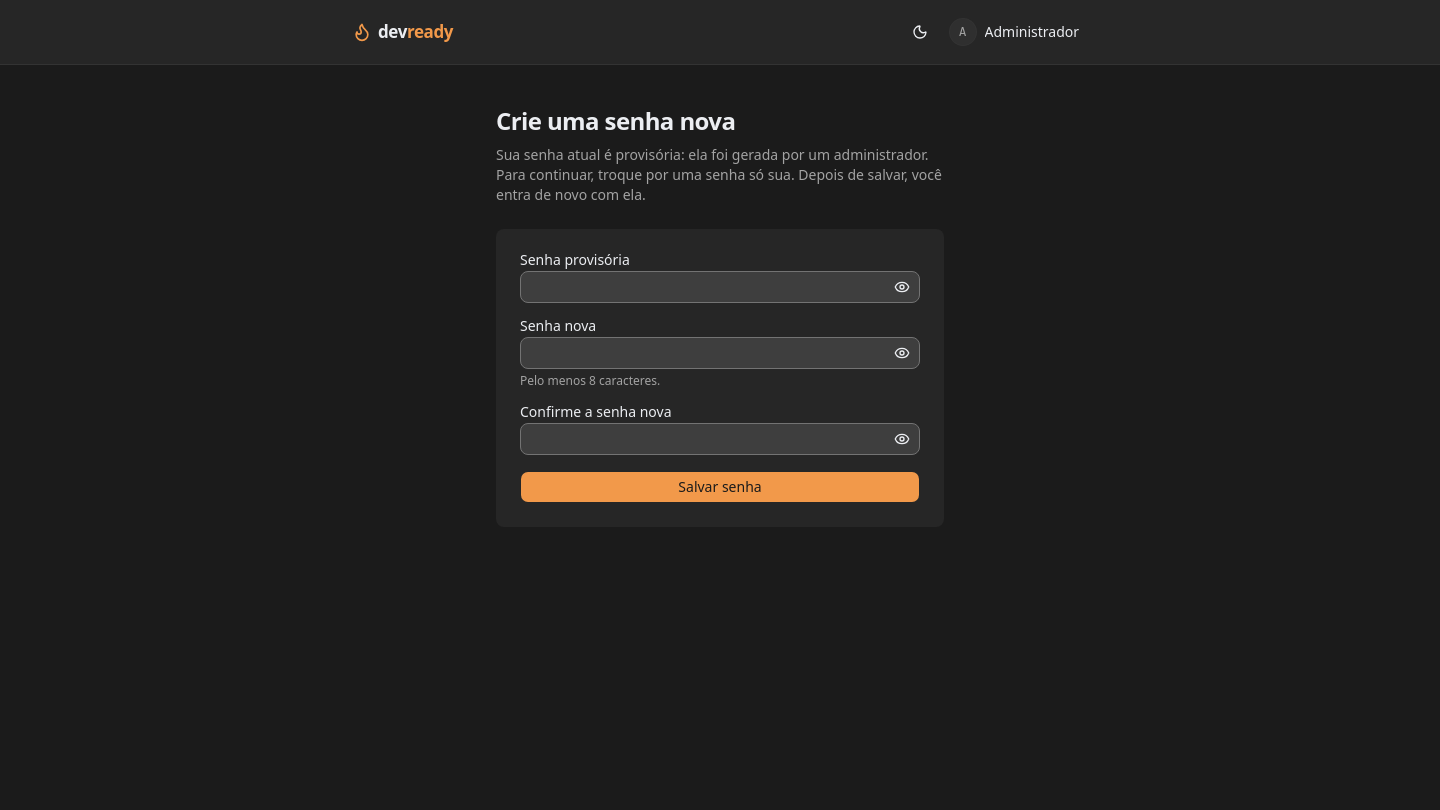
Scenario: ChangePasswordPage › a senha provisória errada aparece no campo dela
Type "errada-123" into the password field labelled "Senha provisória" at (720, 287), box [520,271,920,303]
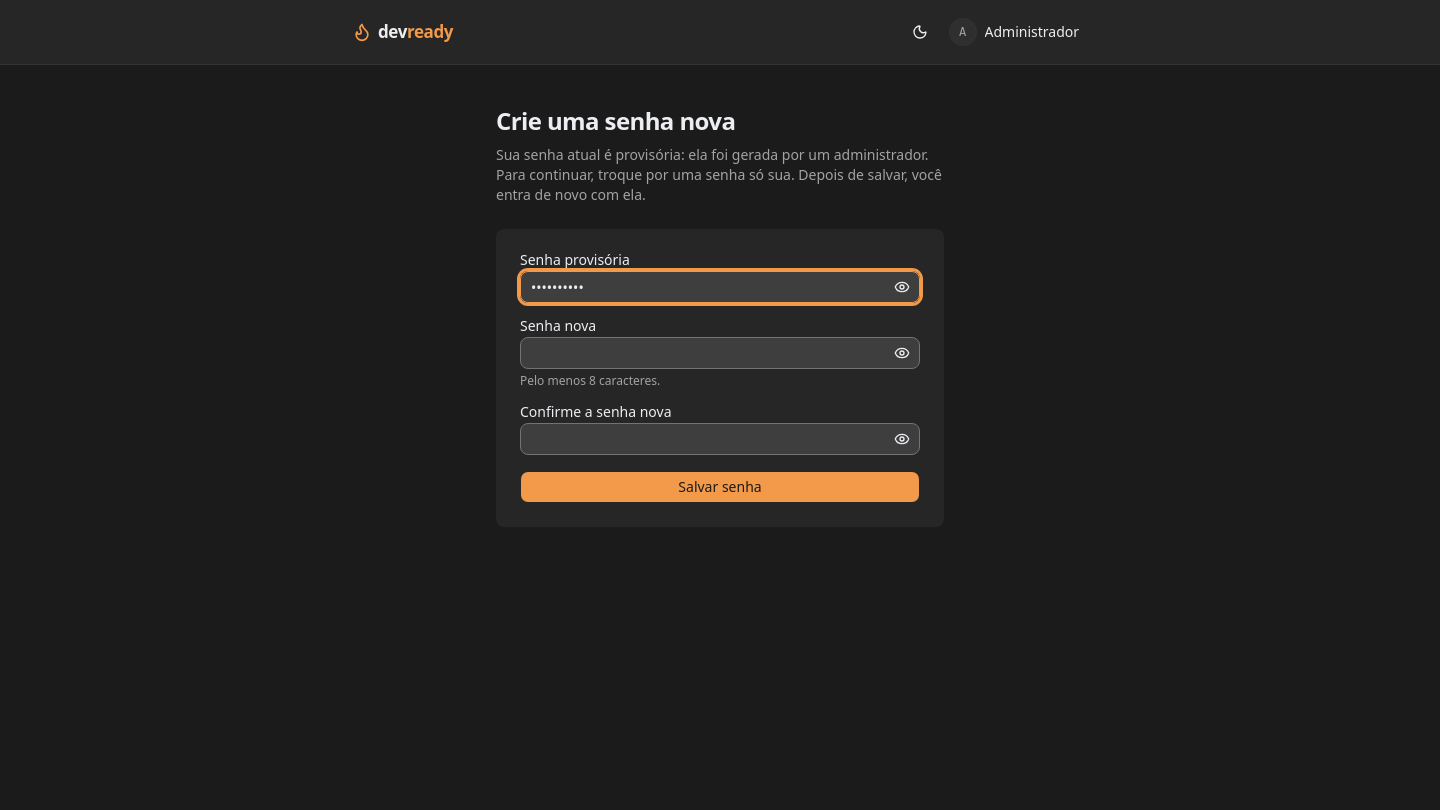
Type "senha-nova-1" into the password field labelled "Senha nova" at (720, 353), box [520,337,920,369]
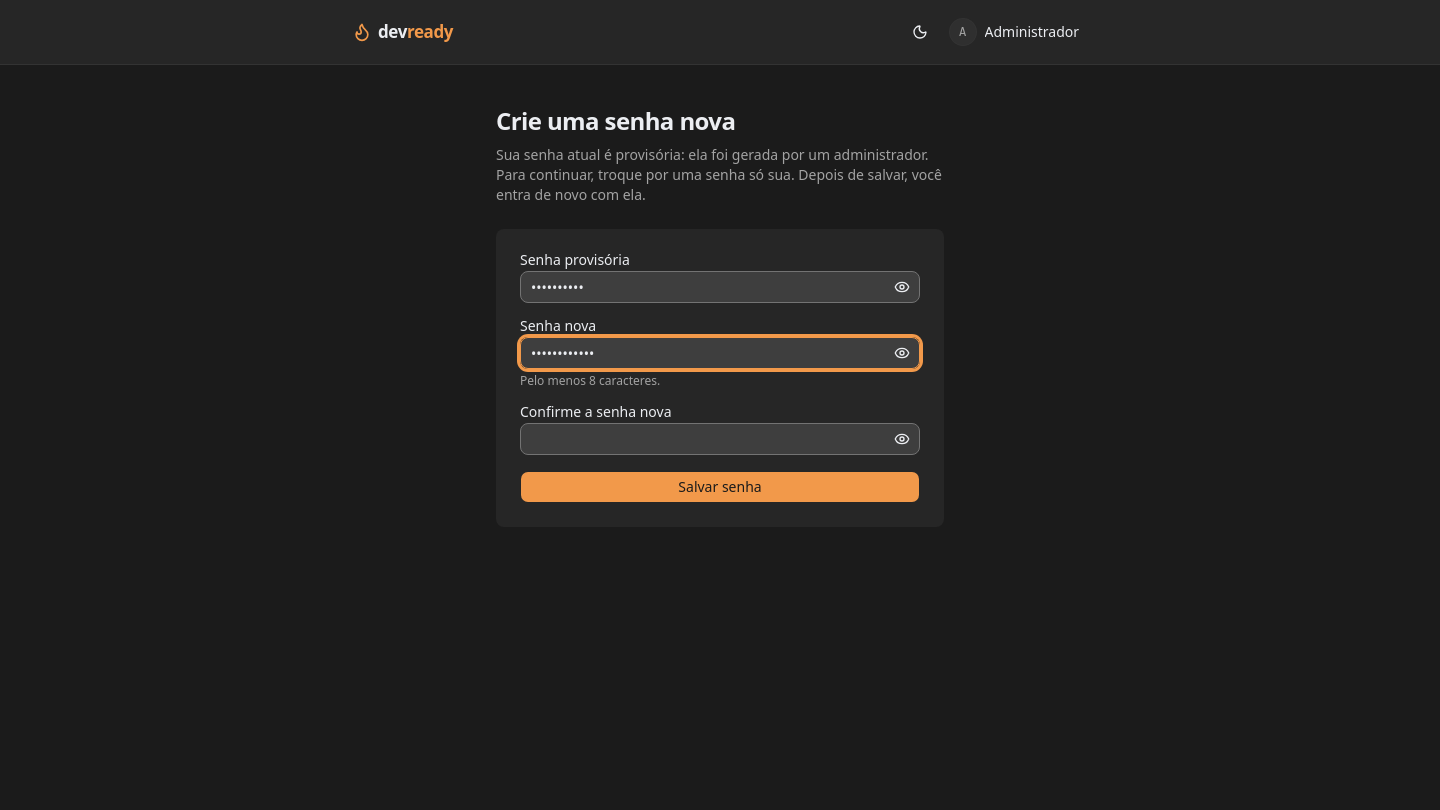
Type "senha-nova-1" into the password field labelled "Confirme a senha nova" at (720, 439), box [520,423,920,455]
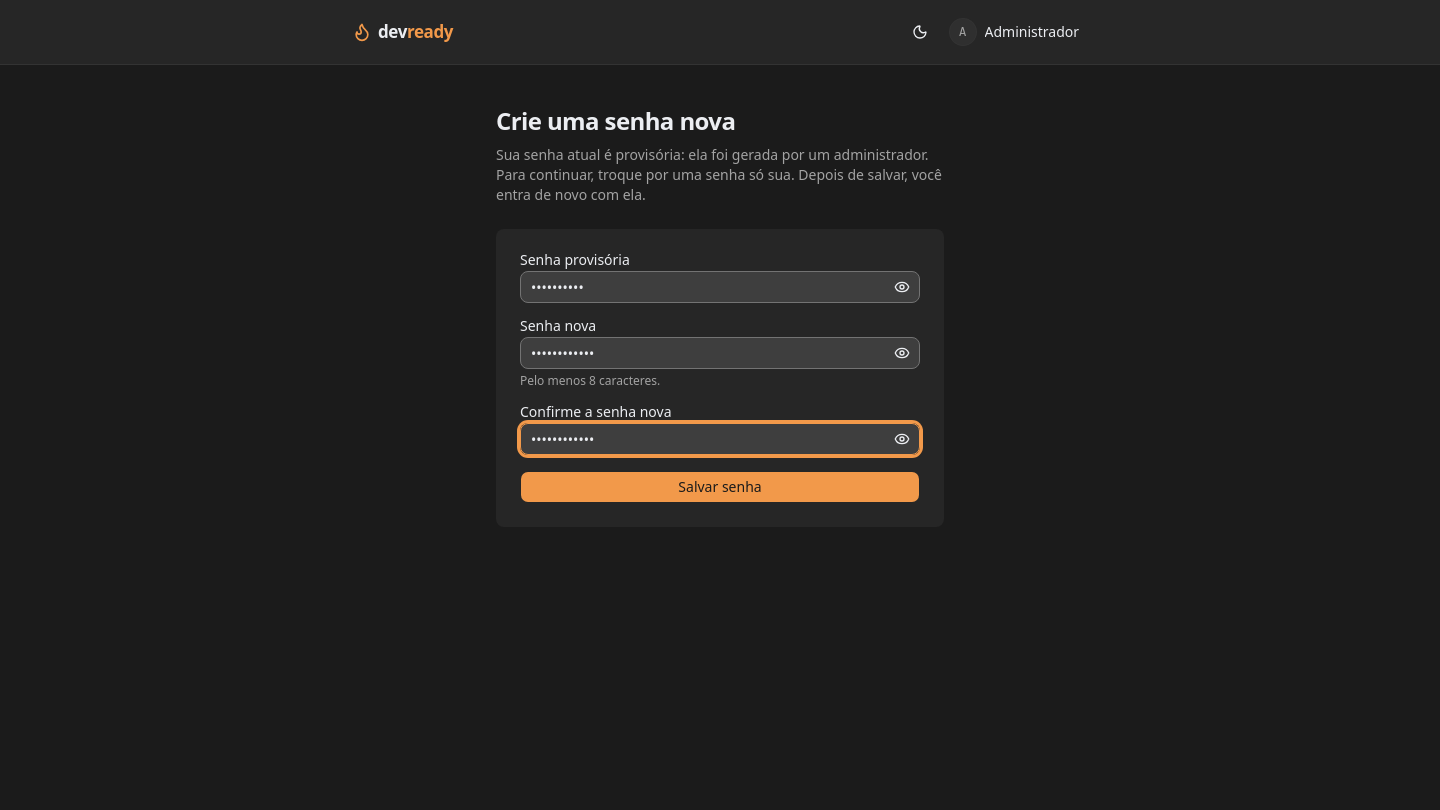
Click the button "Salvar senha" at (720, 487), box [520,471,920,503]
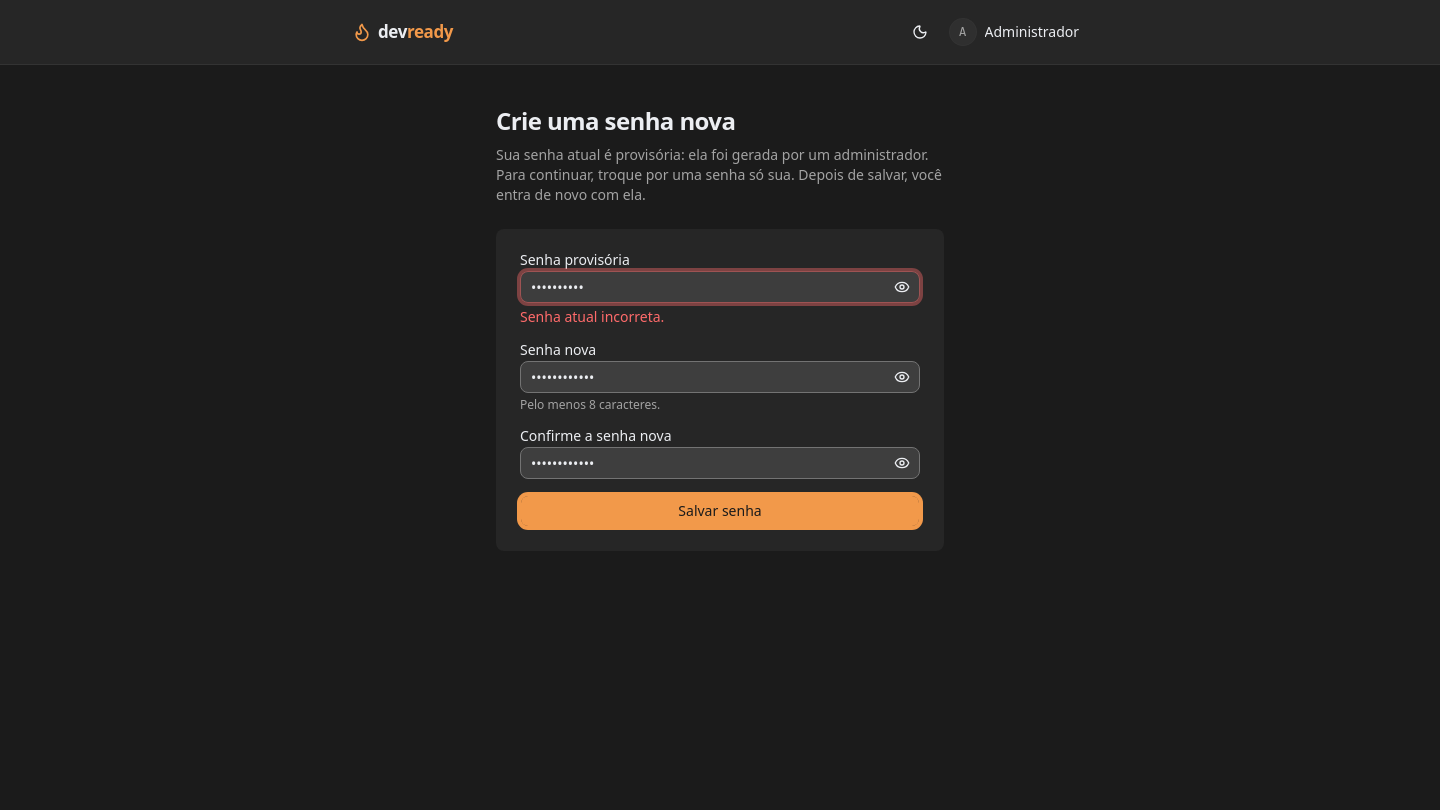
Result: the text "Senha atual incorreta." is shown at [520,307,664,326]
